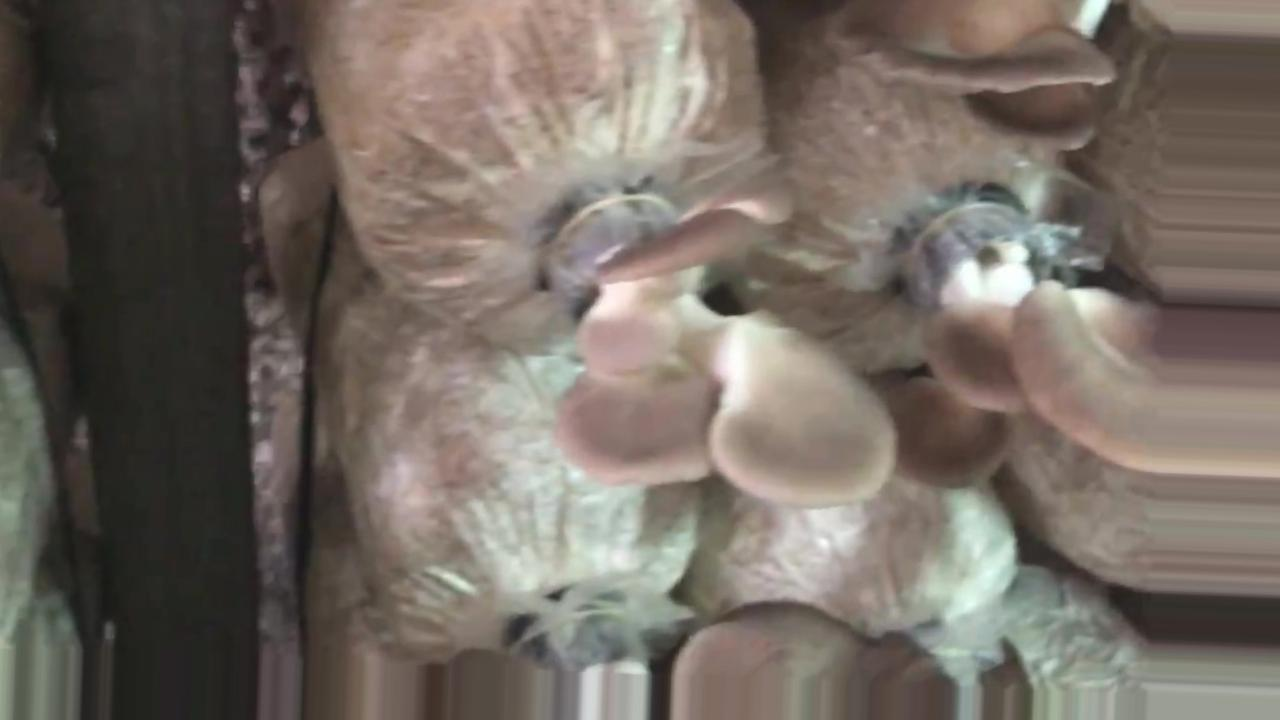nam: (557, 188, 900, 507), (899, 188, 1171, 488), (675, 620, 936, 720)
